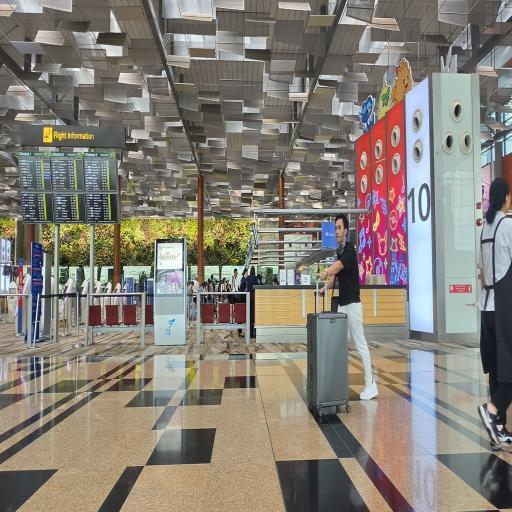person_right: (475, 187, 512, 471)
person_with_luggage_left: (310, 217, 376, 409)
person_with_luggage_right: (228, 268, 241, 322)
